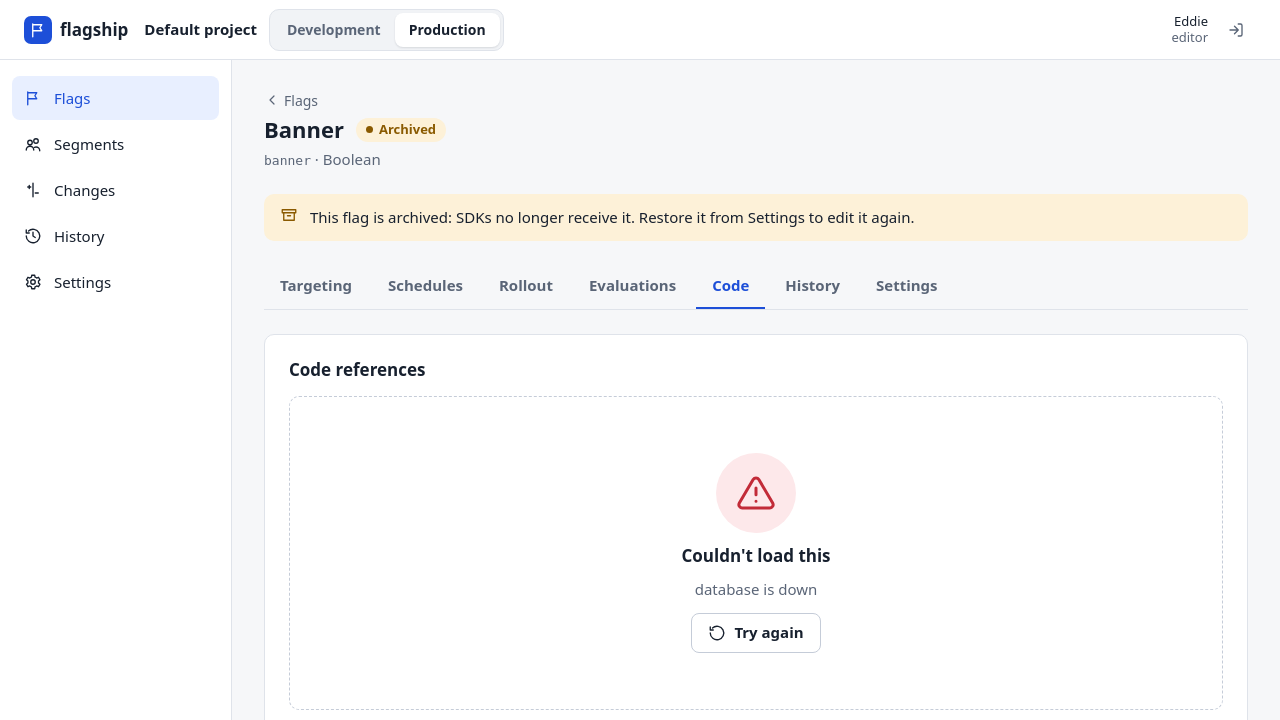
Scenario: code references tab › explains how to get references, and retries after an error
Check: the text "database is down" is shown, box [695,578,817,600]
Click the button "Try again" at {"x": 756, "y": 632}, box [691,612,821,652]
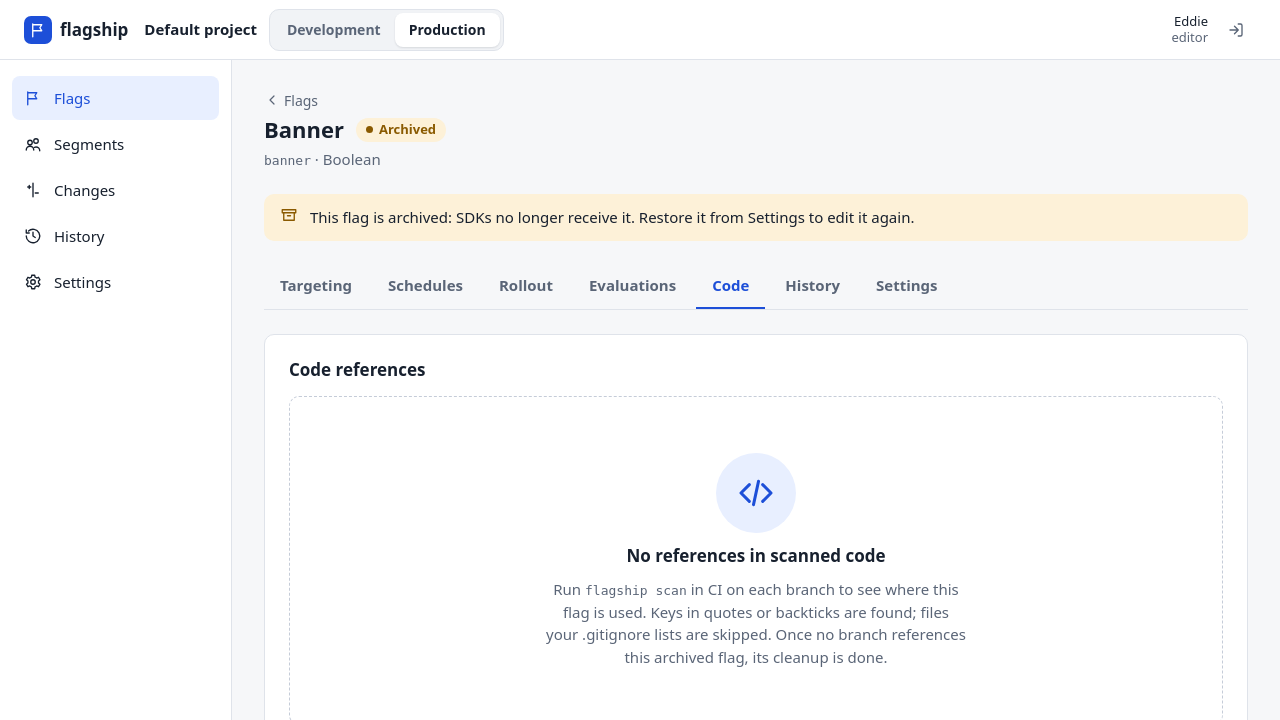
Check: the heading "No references in scanned code" is shown, box [626,545,885,566]
Check: the text "its cleanup is done" is shown, box [624,624,966,666]
